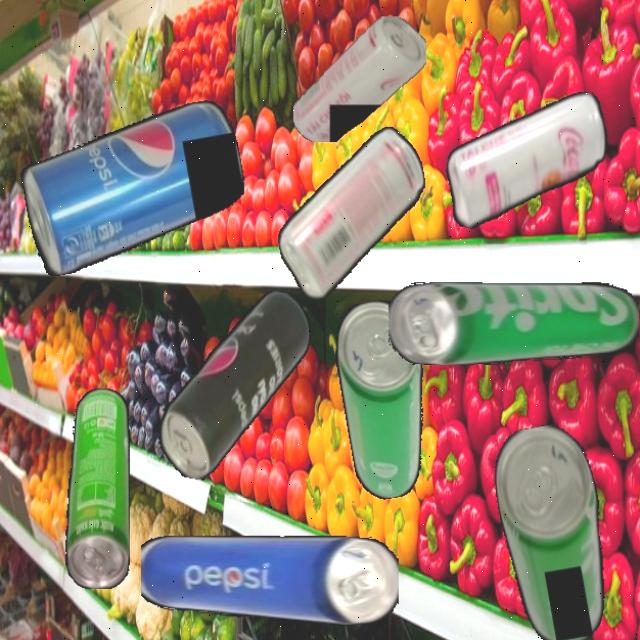debris: (14, 97, 255, 278), (153, 276, 317, 494), (263, 122, 442, 304), (438, 72, 614, 248), (486, 419, 622, 640), (327, 295, 444, 503), (140, 536, 399, 626), (388, 281, 639, 365), (293, 15, 427, 142), (64, 387, 130, 589)
